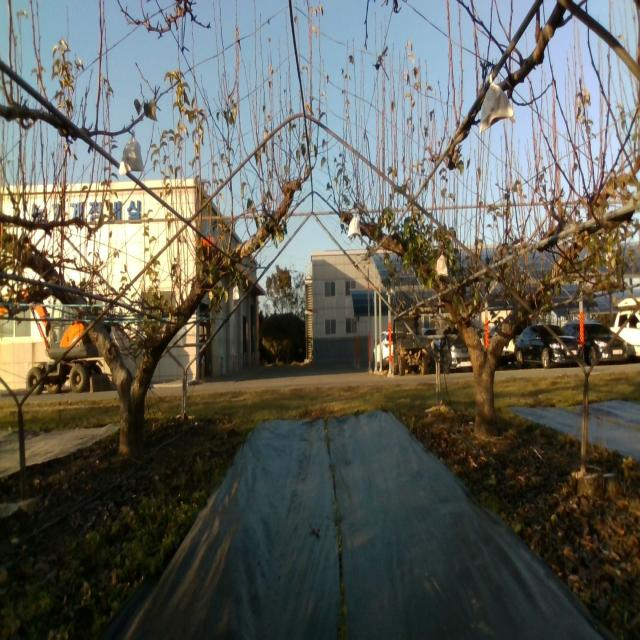pearbags: (477, 73, 515, 133), (117, 127, 145, 177), (347, 215, 362, 239), (436, 251, 448, 278)
